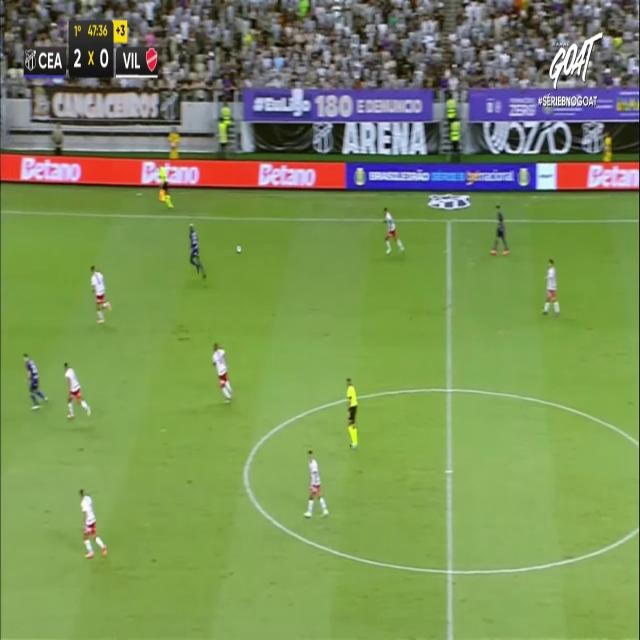ball: (236, 245, 244, 256)
player: (79, 487, 107, 558), (303, 449, 329, 517), (63, 361, 91, 419), (22, 352, 48, 410), (90, 264, 112, 324), (212, 341, 233, 402), (382, 206, 405, 254), (542, 258, 560, 315), (490, 204, 510, 255), (188, 222, 206, 278)
referee: (157, 161, 174, 217), (346, 377, 358, 449)
